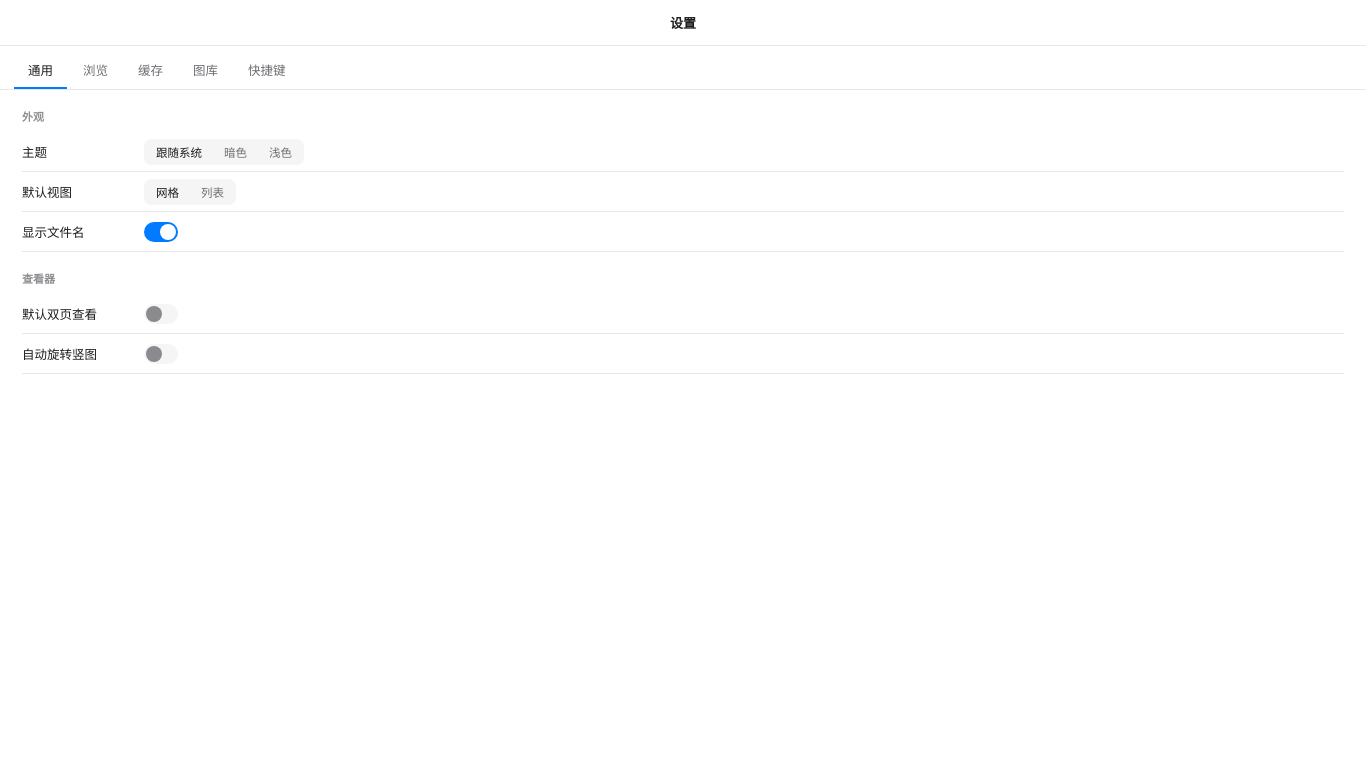
Test case: 设置窗口 · 快捷键帮助页 › 有快捷键标签，列出浏览、列表与查看器的键位
The image size is (1366, 768).
Click the button "快捷键": (267, 72) [234,54,300,89]
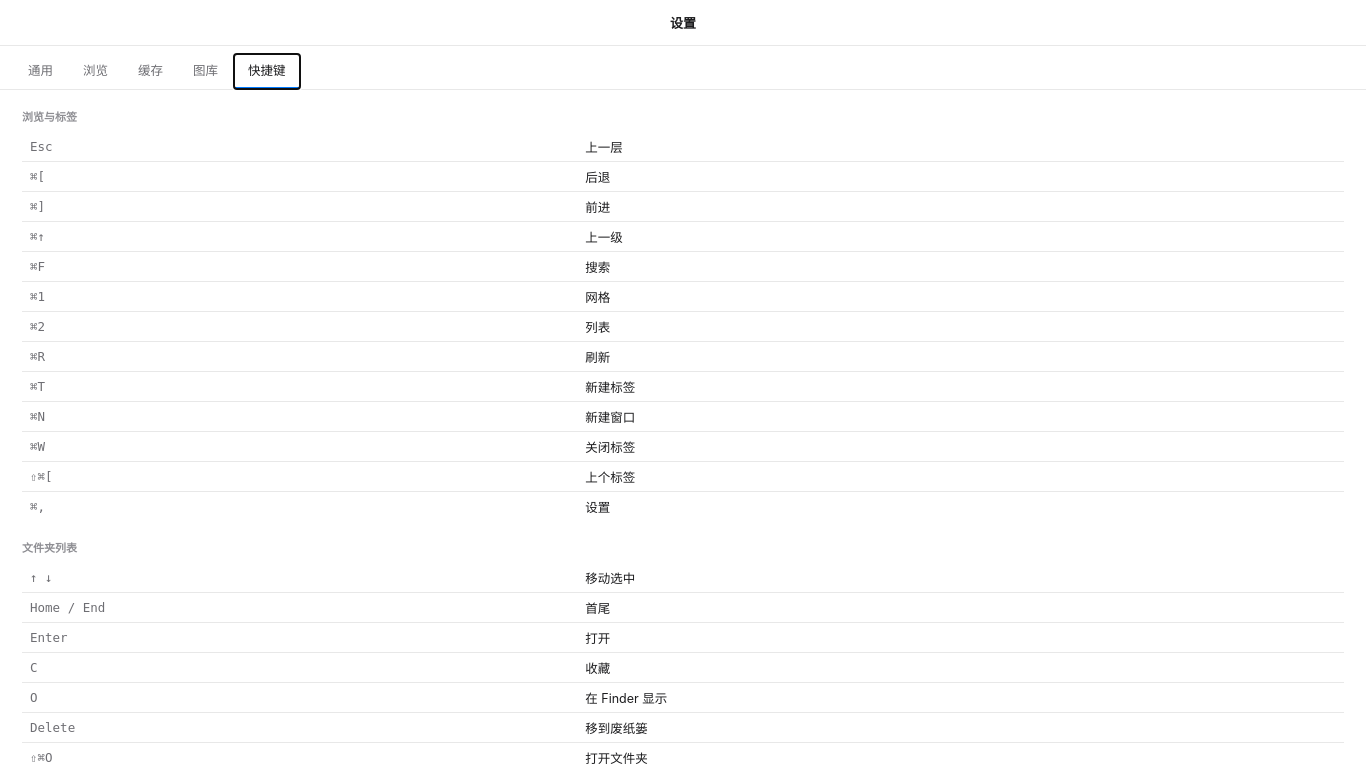
Expected: the text "浏览与标签" is shown, [22,110,77,124]
Expected: the text "文件夹列表" is shown, [22,541,77,555]
Expected: the column heading "⌘1" is shown, [22,282,577,312]
